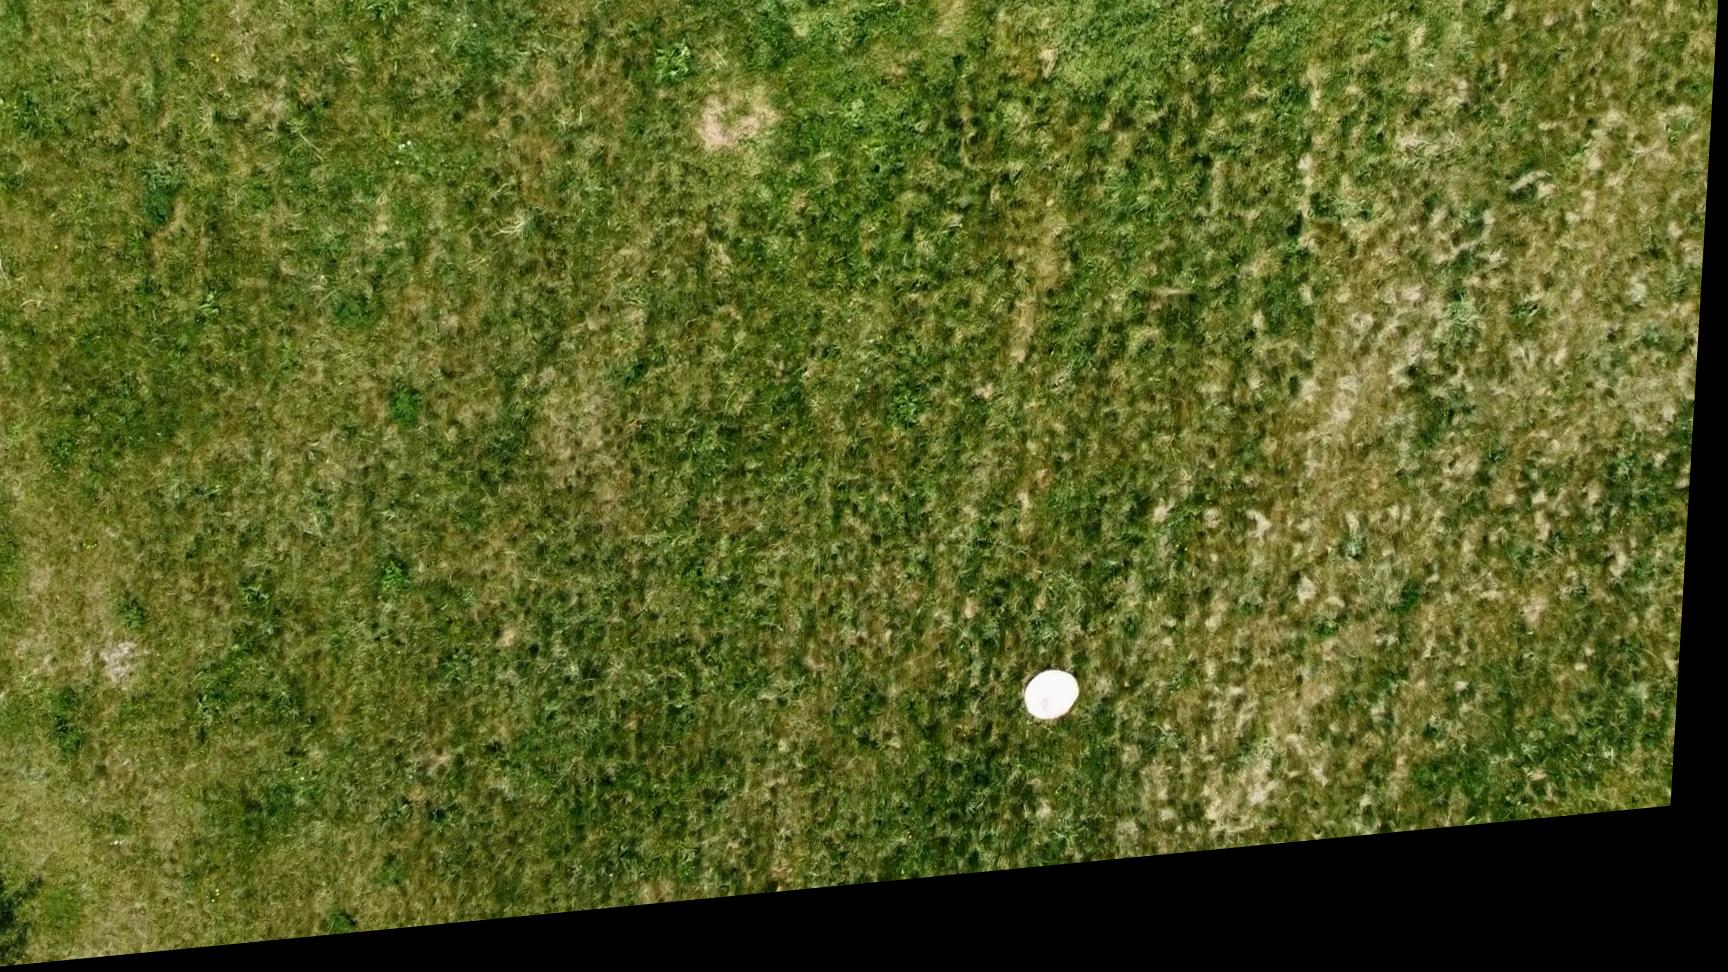Red: (1031, 686, 1092, 748)
